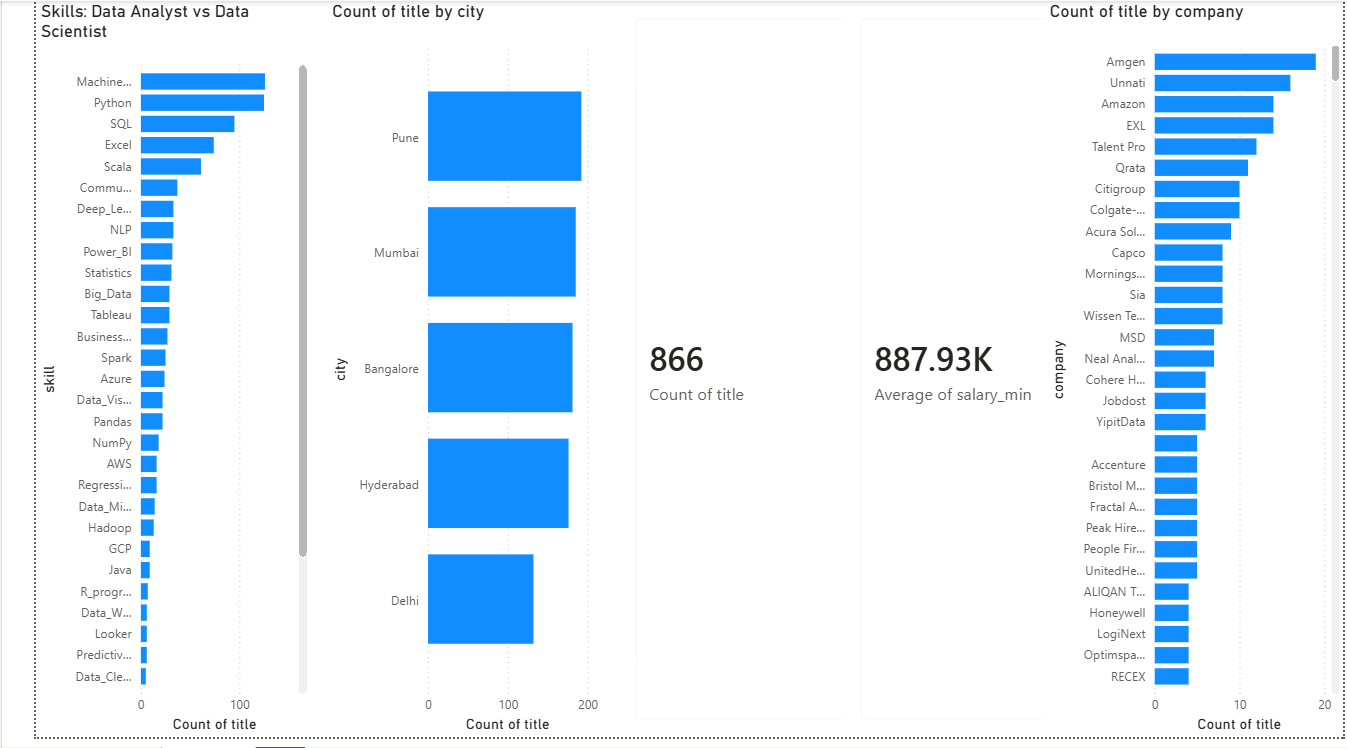

This screenshot's page, from the dashboard's own definition file:
{"tool":"powerbi","page":{"name":"Page 1","canvas":[1280,720],"ordinal":0},"visuals":[{"type":"clusteredBarChart","title":"Skills: Data Analyst vs  Data Scientist","fields":{"Category":["skills_unpivoted.skill"],"Y":["CountNonNull(skills_unpivoted.title)"]},"box":[0,0,270.3,720.4],"z":0},{"type":"clusteredBarChart","fields":{"Category":["cleaned_job_data.city"],"Y":["CountNonNull(cleaned_job_data.title)"]},"box":[285,0,270,720],"z":1000},{"type":"cardVisual","fields":{"Data":["CountNonNull(cleaned_job_data.title)"]},"box":[570,0,270,720],"z":2000},{"type":"cardVisual","fields":{"Data":["Avg(cleaned_job_data.salary_min)"]},"box":[790.4,0,219.6,720.4],"z":2001},{"type":"clusteredBarChart","fields":{"Category":["cleaned_job_data.company"],"Y":["CountNonNull(cleaned_job_data.title)"]},"box":[986.6,0,293.7,720.4],"z":2002}]}

Visuals, with their boxes in screenshot pixels (x1, y1, x2, y2), scaled from the page's 1280x720 canvas onto the 1347x748 screenshot:
"Skills: Data Analyst vs  Data Scientist" clusteredBarChart: [0,0,284,747]
clusteredBarChart - cleaned_job_data.city x CountNonNull(cleaned_job_data.title): [300,0,584,747]
cardVisual - CountNonNull(cleaned_job_data.title): [600,0,884,747]
cardVisual - Avg(cleaned_job_data.salary_min): [832,0,1063,747]
clusteredBarChart - cleaned_job_data.company x CountNonNull(cleaned_job_data.title): [1038,0,1346,747]
